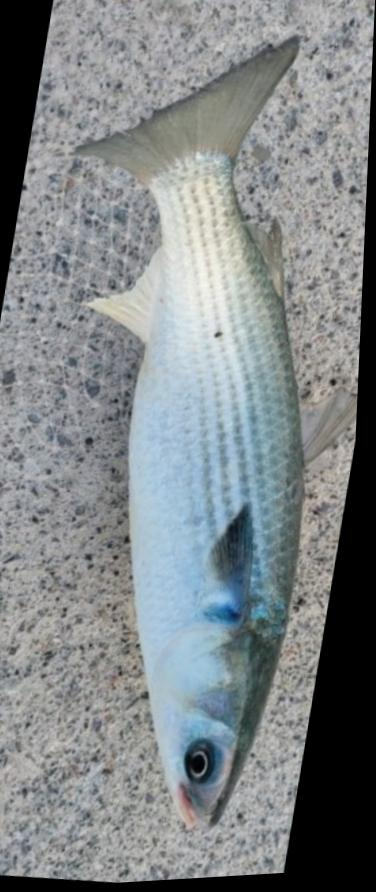fish: (77, 38, 309, 839)
